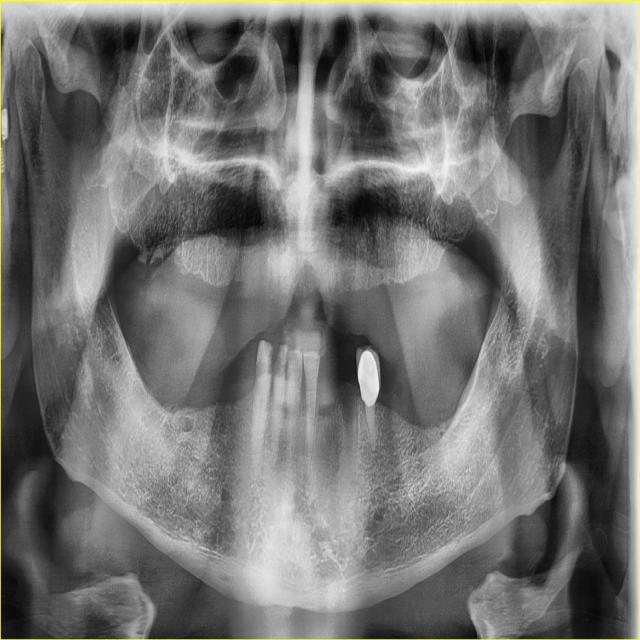72: (133, 236, 148, 263), (151, 243, 166, 261)
Sterngold Implant: (272, 344, 288, 377), (266, 345, 273, 375), (256, 361, 264, 382)
Zimmer Implant: (356, 344, 383, 407)
